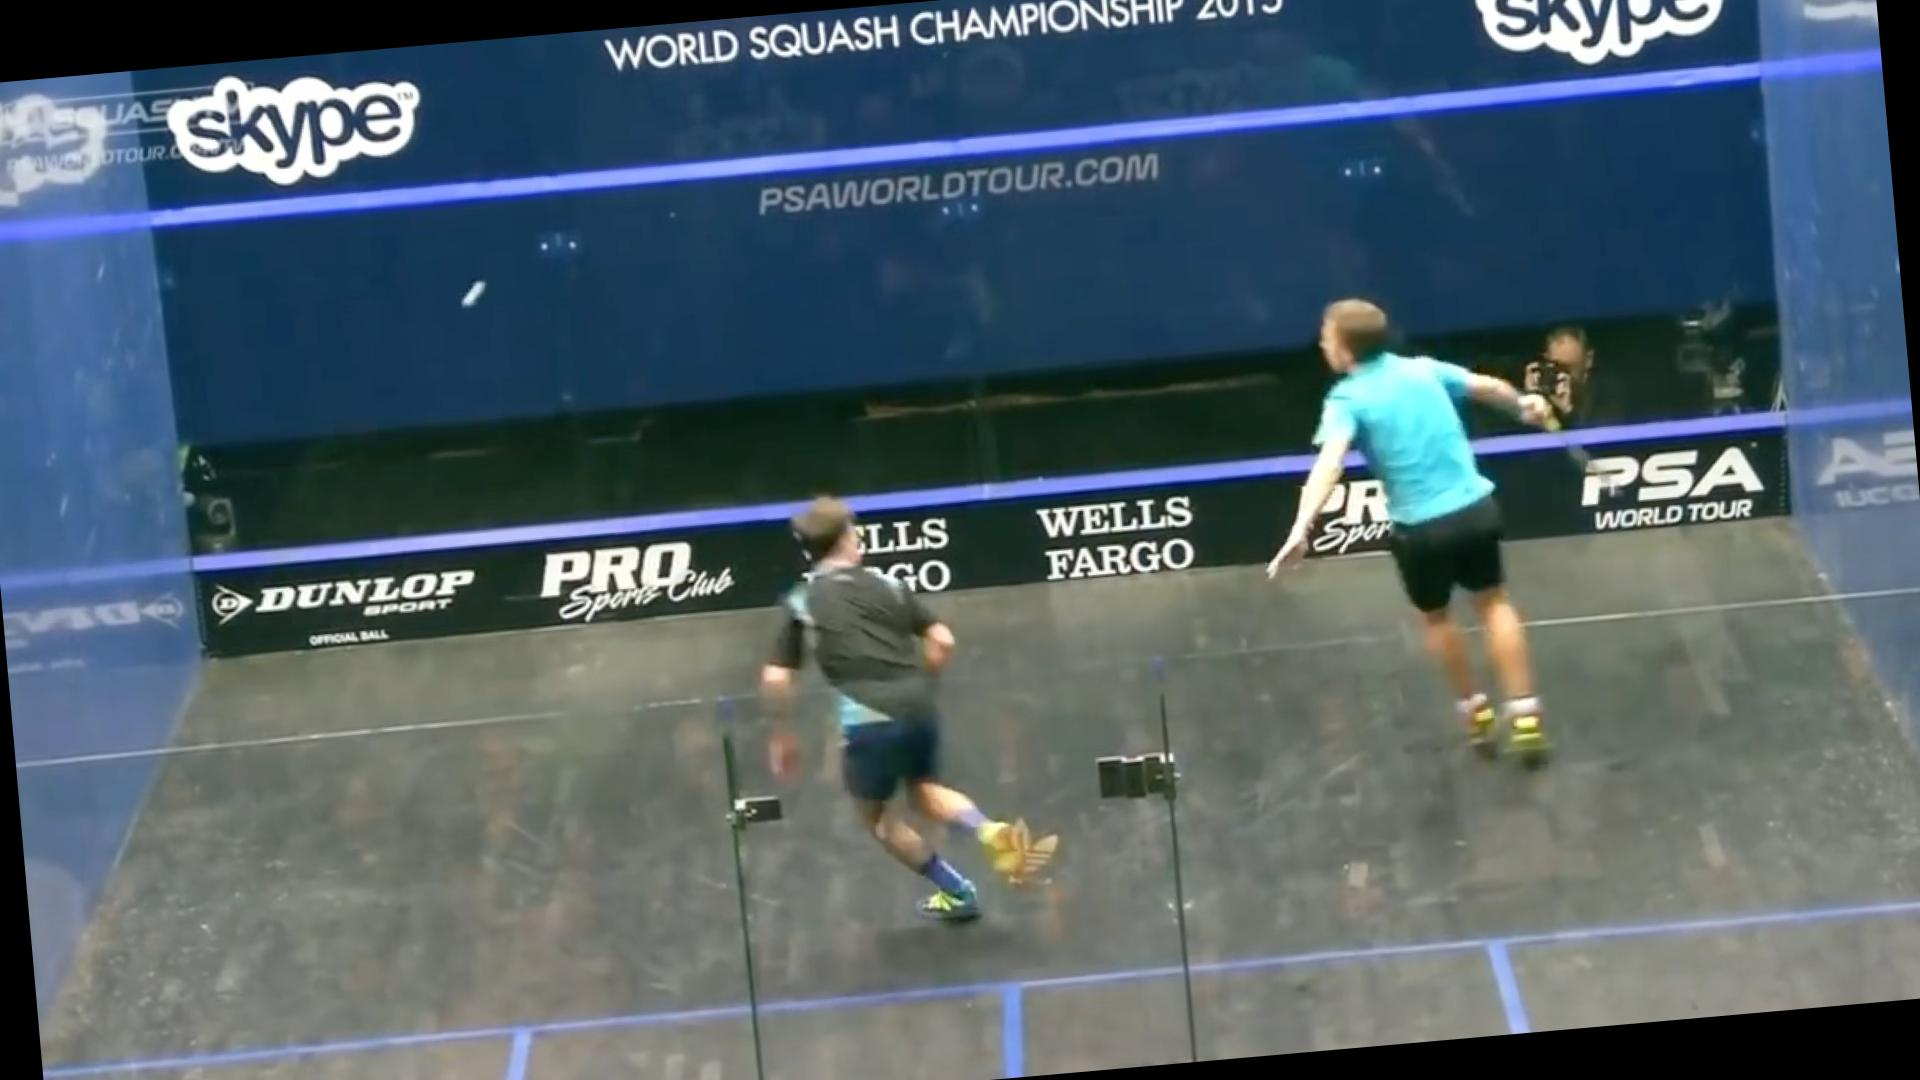Squash-Ball: (435, 261, 506, 331)
